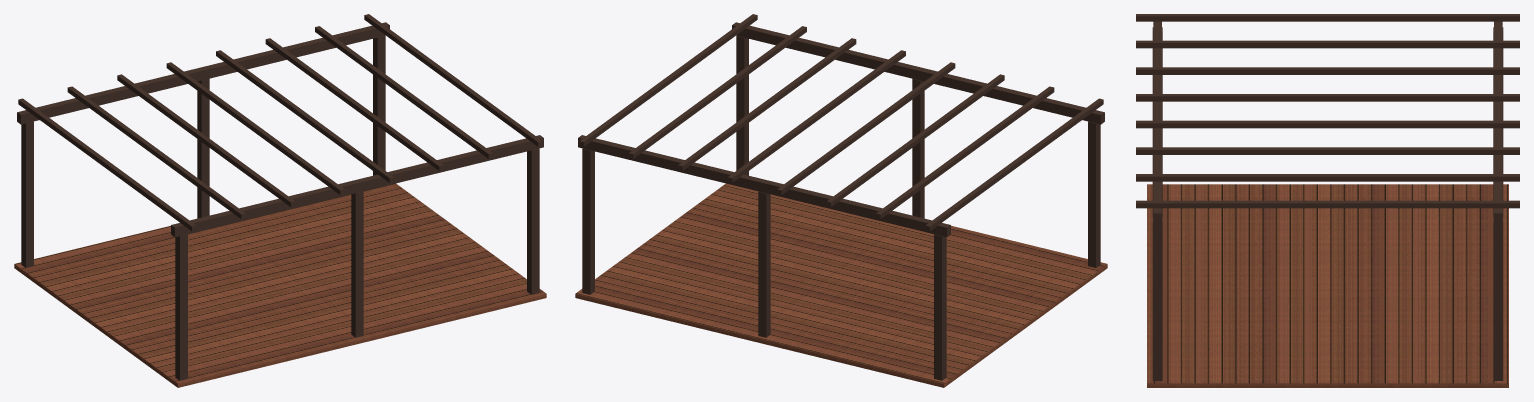
Rendered from pergola_deck.glb.
3 renders of one model, left to right at view 1: azimuth 30°, elevation 25°; view 2: azimuth 150°, elevation 25°; view 3: azimuth 270°, elevation 25°, orthographic. The views are drawn at different scales.
Visible parts, largest first — view 1: Malha_0; view 2: Malha_0; view 3: Malha_0.
Boxes of the visible parts, x1,y1,x2,y2 form: Malha_0: (14,14,546,387); Malha_0: (575,14,1107,387); Malha_0: (1136,14,1519,387).
Bounding box in the file's own units: 6.5 × 2.74 × 5.3.
2 materials, 1 textured.
